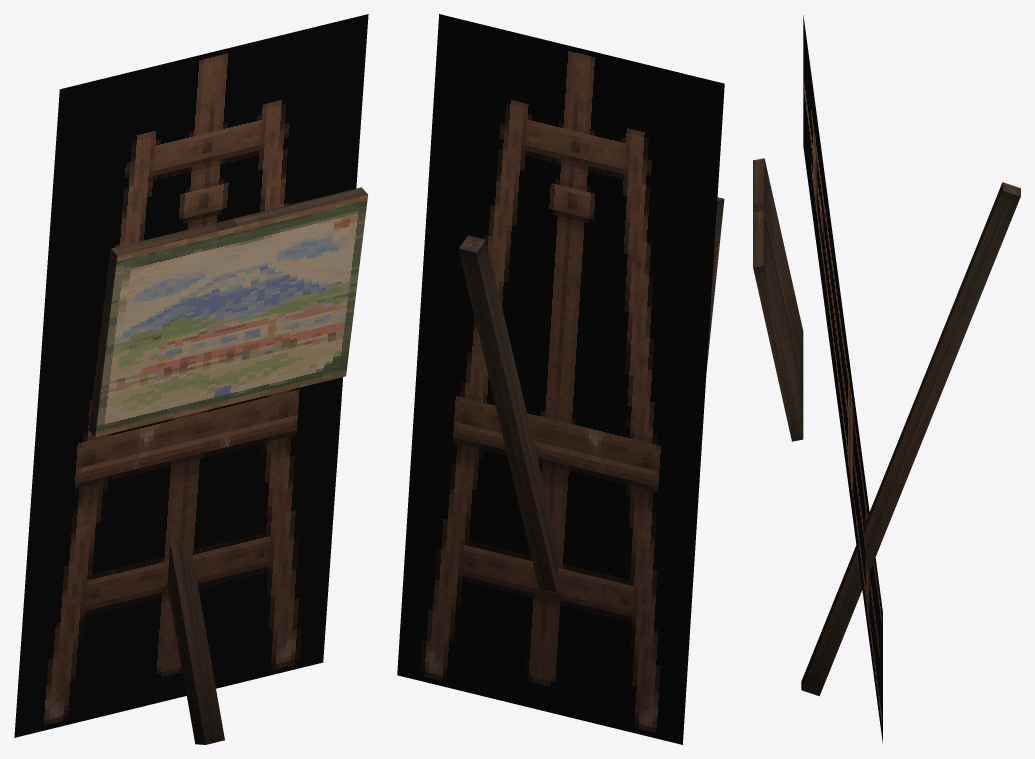
The model's file is prop_easel-3.glb.
3 renders of one model, left to right at view 1: azimuth 30°, elevation 25°; view 2: azimuth 150°, elevation 25°; view 3: azimuth 270°, elevation 25°, orthographic. The views are drawn at different scales.
Visible parts, largest first — view 1: prop_easel-3; view 2: prop_easel-3; view 3: prop_easel-3.
Part boxes in pixels (bbox=[...]): prop_easel-3: bbox=[14, 14, 368, 744]; prop_easel-3: bbox=[397, 14, 724, 744]; prop_easel-3: bbox=[753, 15, 1020, 743].
Bounding box in the file's own units: 0.8 × 1.73 × 0.6842.
3 materials, 3 textured.
